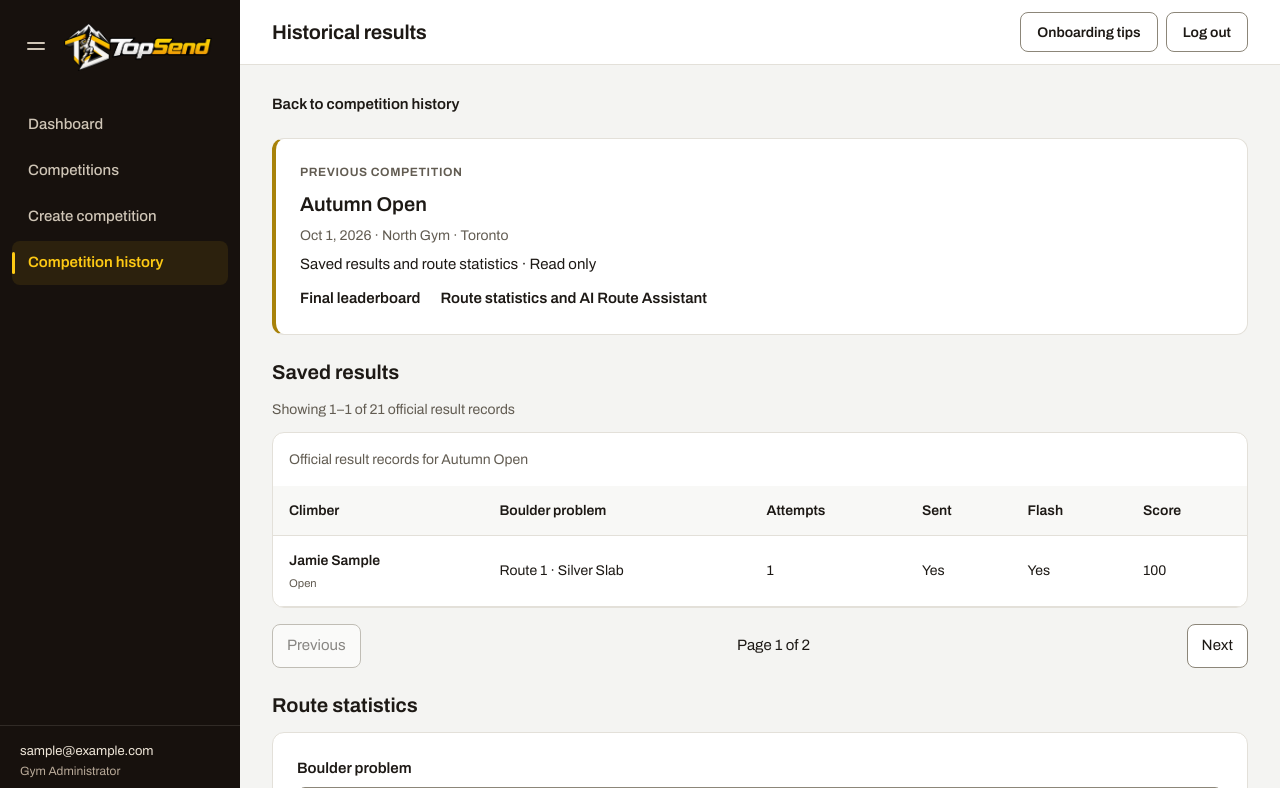
Test: requests the next results page and removes old rows while it loads
Expected: the table is shown, [273, 433, 1247, 607]
What coordinates should you click on to do the following:
click the button "Next"
I would click on:
 (1217, 646)
Its box is [1187, 624, 1248, 668].
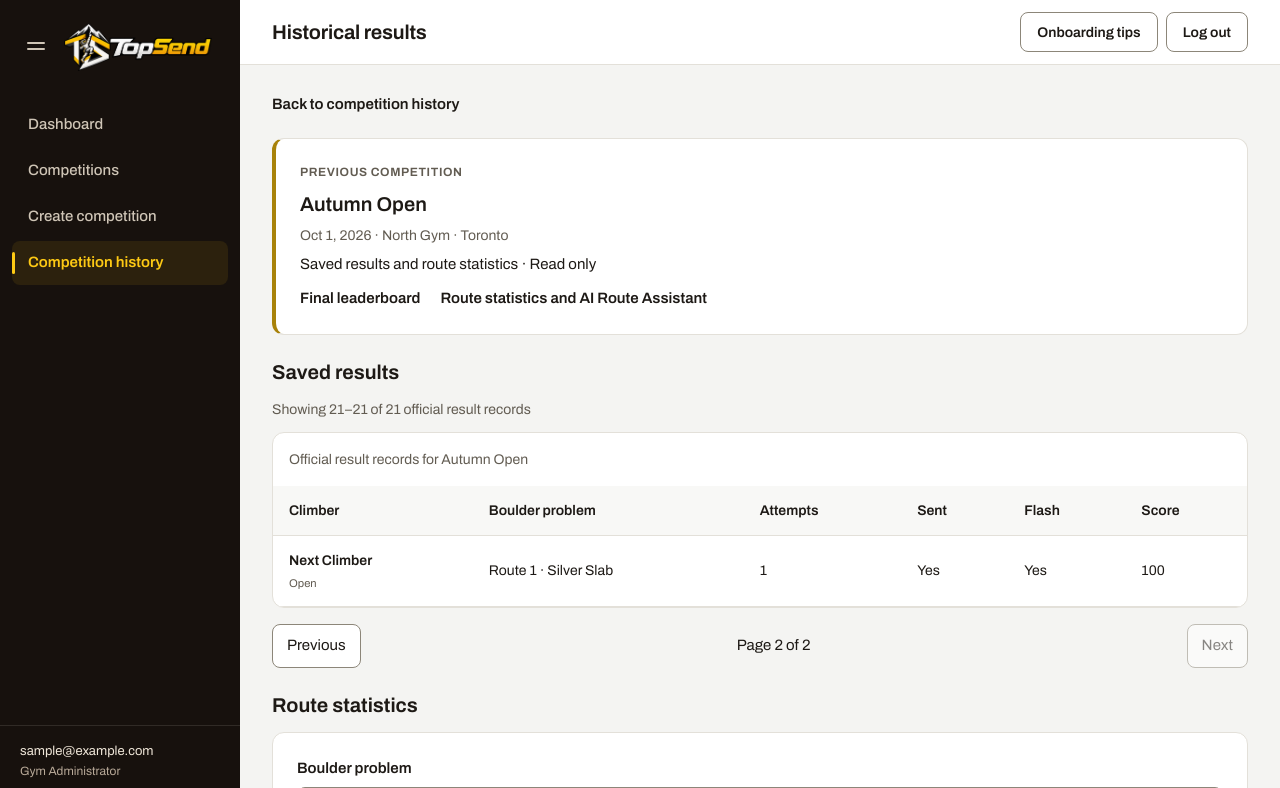
Expected: the column heading "Jamie Sample" is gone
Expected: the column heading "Next Climber" is shown, [289, 553, 372, 568]
